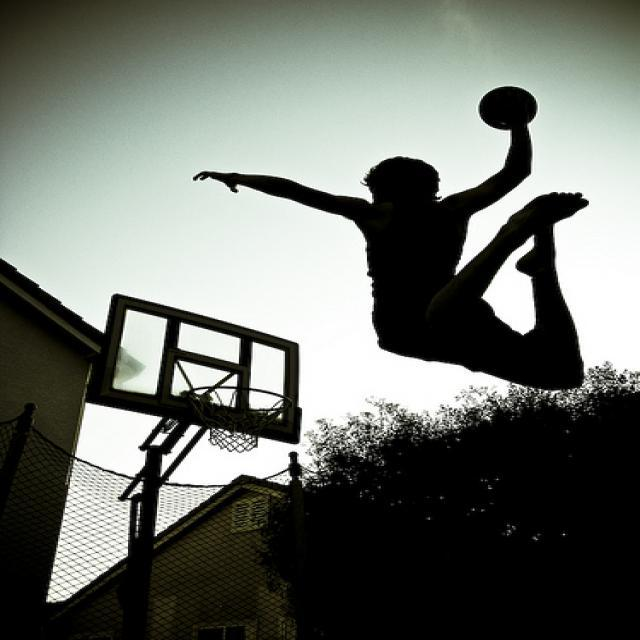basketball: (476, 84, 536, 130)
rim: (186, 385, 292, 415)
